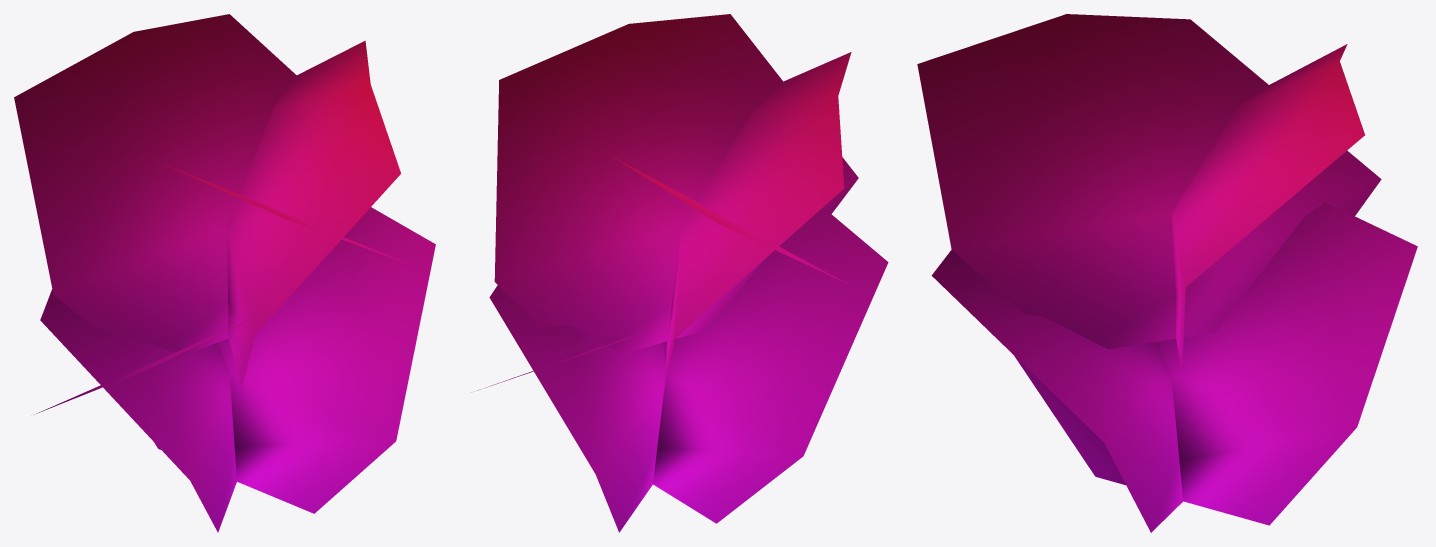
File: SM_Plant_Bush_Leaves_02.gltf
3 views of the same model, side by side, from view 1: azimuth 30°, elevation 25°; view 2: azimuth 150°, elevation 25°; view 3: azimuth 270°, elevation 25° (orthographic). The views are drawn at different scales.
Visible parts, largest first — view 1: SM_Plant_Bush_Leaves_02; view 2: SM_Plant_Bush_Leaves_02; view 3: SM_Plant_Bush_Leaves_02.
Part boxes in pixels (box(x1,y1,x2,y2)): SM_Plant_Bush_Leaves_02: box(14, 14, 435, 532); SM_Plant_Bush_Leaves_02: box(477, 14, 888, 532); SM_Plant_Bush_Leaves_02: box(917, 14, 1417, 532).
Bounding box in the file's own units: 0.5343 × 0.6049 × 0.6123.
